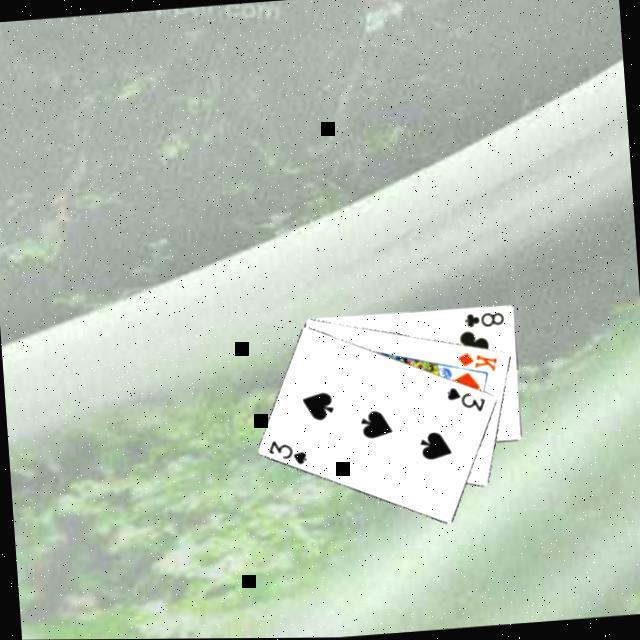3S: (442, 381, 488, 416), (263, 434, 309, 468)
8C: (461, 307, 506, 330)
KD: (452, 346, 500, 375)
